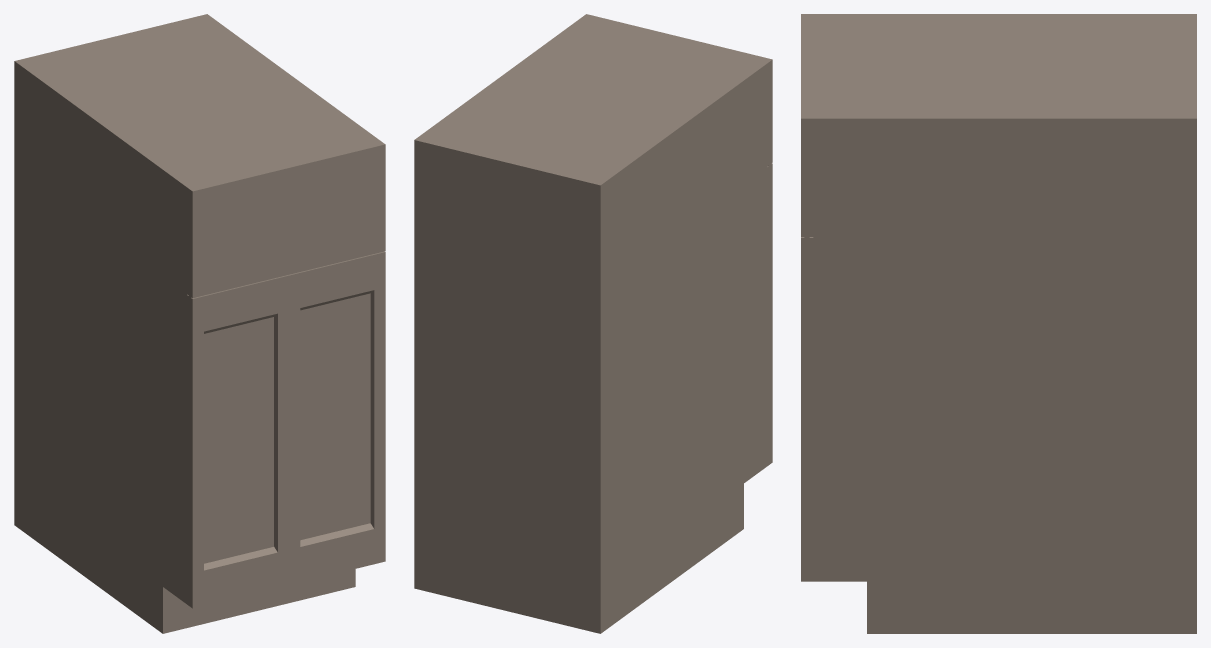
File: Base-Cabinet-Double-Door-One-Drawer-24-Deep_std_001_W15in.glb
3 views of the same model, side by side, from view 1: azimuth 30°, elevation 25°; view 2: azimuth 150°, elevation 25°; view 3: azimuth 270°, elevation 25° (orthographic). The views are drawn at different scales.
Parts seen in each view (by area): view 1: Base-Cabinet-Double-Door-One-Drawer-24-Deep.std.001_W15in; view 2: Base-Cabinet-Double-Door-One-Drawer-24-Deep.std.001_W15in; view 3: Base-Cabinet-Double-Door-One-Drawer-24-Deep.std.001_W15in.
Boxes of the visible parts, box(x1,y1,x2,y2) form: Base-Cabinet-Double-Door-One-Drawer-24-Deep.std.001_W15in: box(14, 14, 385, 633); Base-Cabinet-Double-Door-One-Drawer-24-Deep.std.001_W15in: box(414, 14, 772, 633); Base-Cabinet-Double-Door-One-Drawer-24-Deep.std.001_W15in: box(801, 14, 1196, 633).
Size of the model in its own units: 0.381 by 0.8763 by 0.6096.
